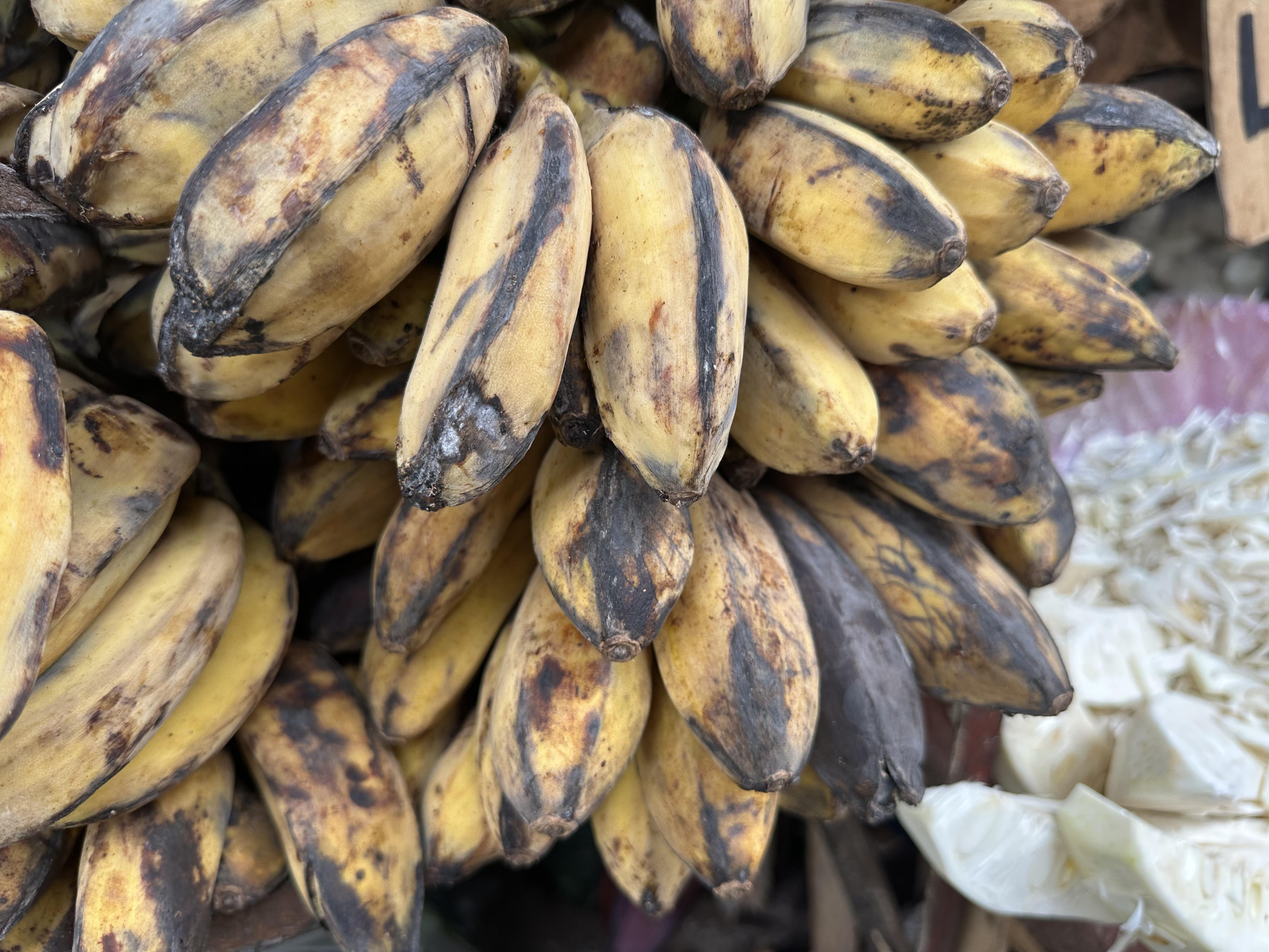ripe: (12, 0, 747, 507), (425, 437, 1072, 915), (700, 0, 1091, 474), (861, 84, 1217, 588), (0, 309, 296, 842), (189, 346, 549, 743), (72, 641, 423, 952)
